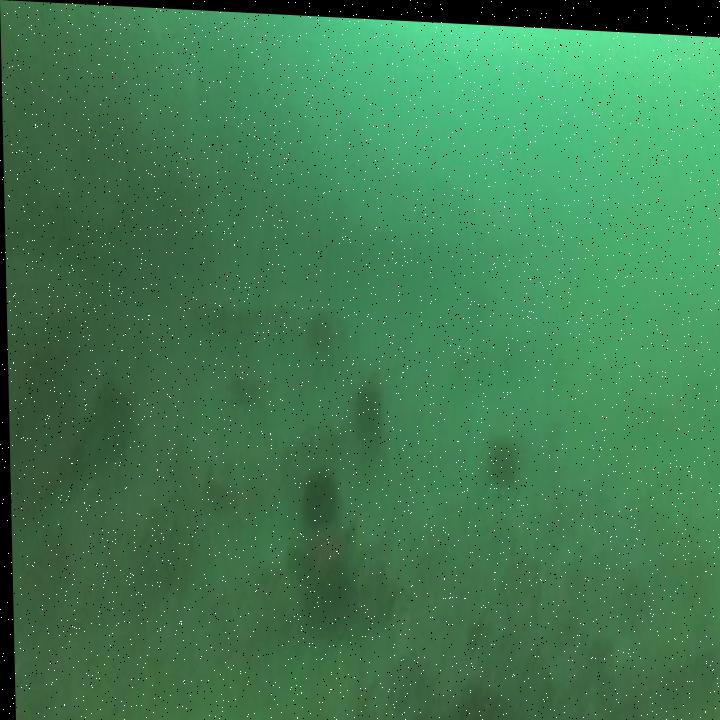echinus: (88, 380, 133, 458), (298, 463, 336, 522), (354, 379, 380, 438), (485, 430, 512, 476), (304, 304, 329, 344)
scallop: (288, 505, 359, 622)
